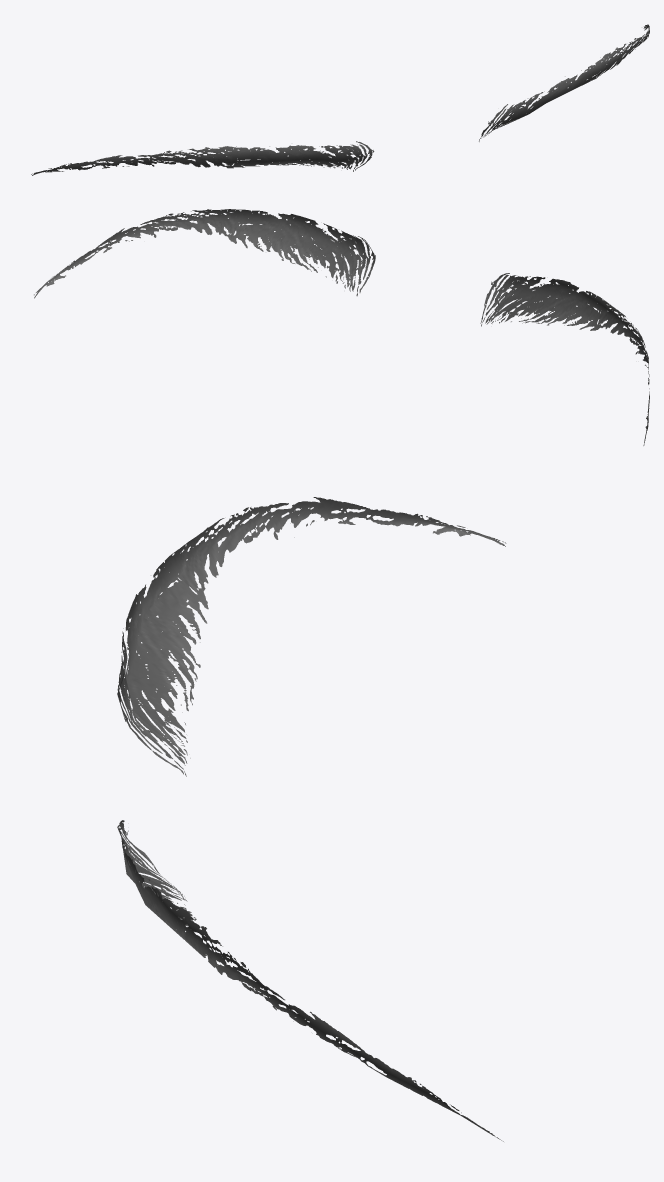
File: brow001.glb
3 views of the same model, one above another, from view 1: azimuth 30°, elevation 25°; view 2: azimuth 150°, elevation 25°; view 3: azimuth 270°, elevation 25° (orthographic). The views are drawn at different scales.
Parts seen in each view (by area): view 1: editor_brow001; view 2: editor_brow001; view 3: editor_brow001.
Part boxes in pixels (x1,y1,x2,y2): editor_brow001: (31, 24, 649, 175); editor_brow001: (34, 209, 649, 445); editor_brow001: (117, 497, 506, 1141).
Bounding box in the file's own units: 0.1131 × 0.0122 × 0.0335.
Materials: 1 (1 with a texture image).
